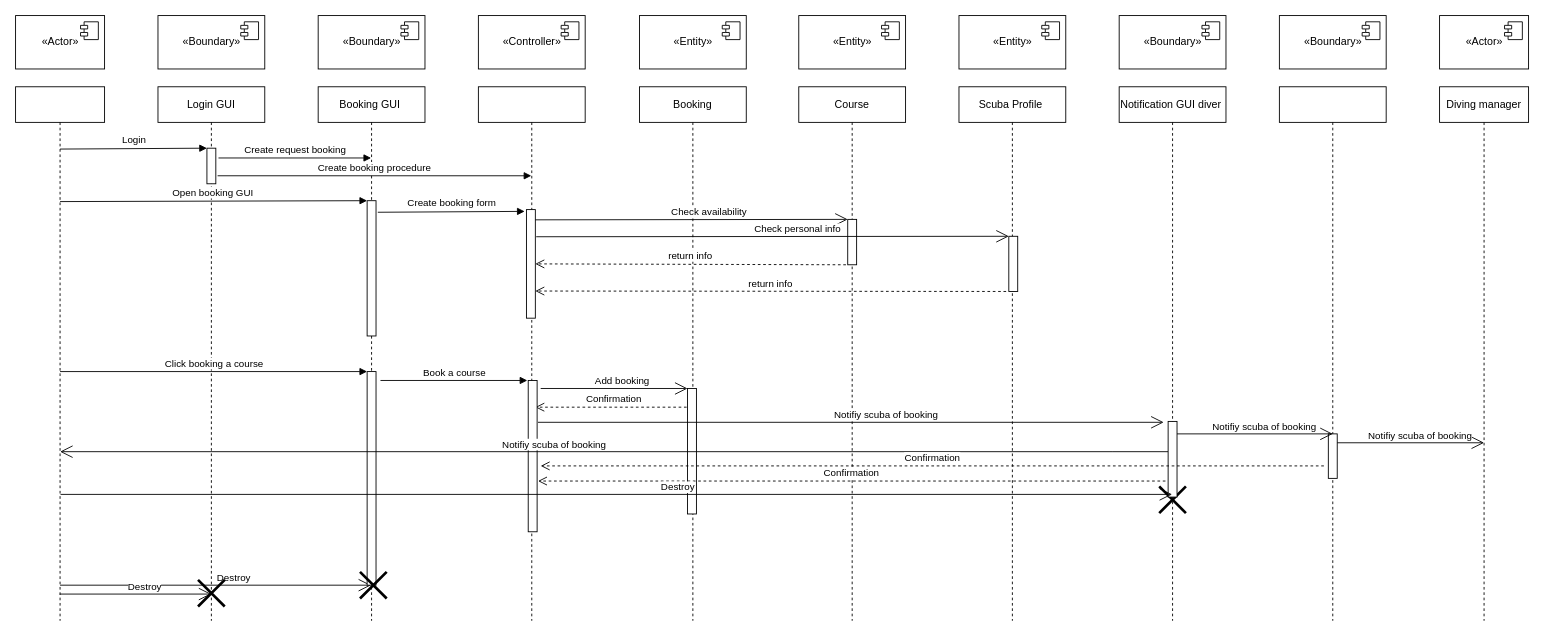
Some shapes in this 1544 by 636 pixel diagram are drawn without their labels. The box of each missing label's shape, as (x1, y1, x2, y2) in pixels:
Booking Manager: (477, 86, 585, 621)
Notification GUI diving: (1278, 86, 1386, 621)
ScubaDiver: (15, 86, 105, 621)
